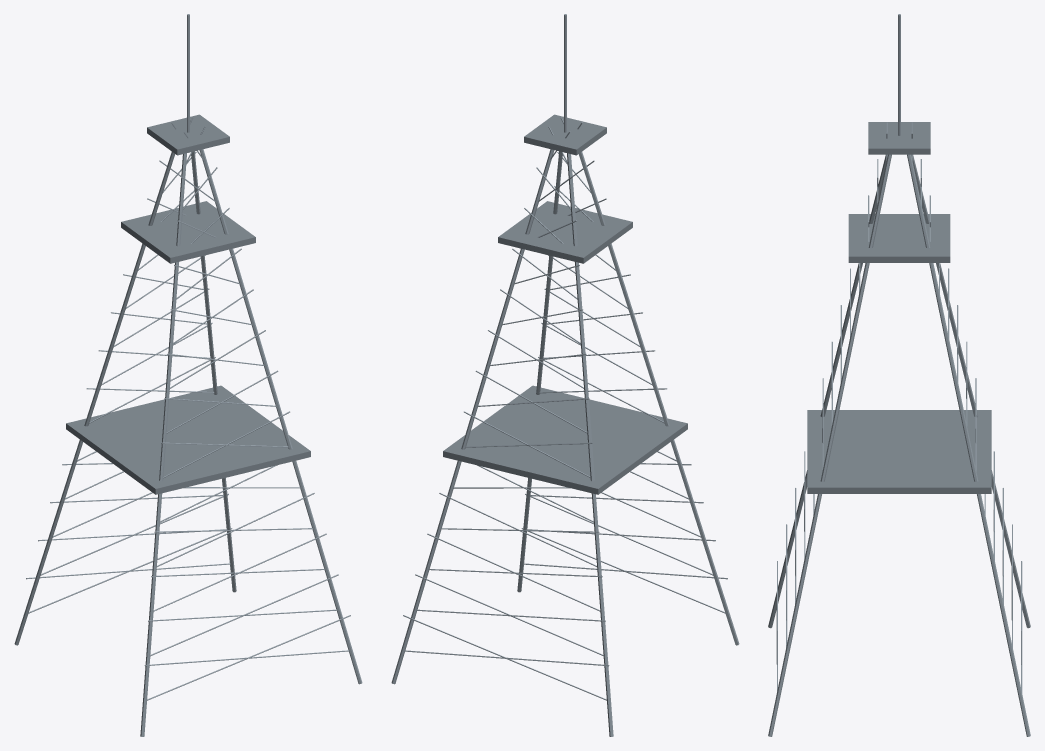
3 renders of one model, left to right at view 1: azimuth 30°, elevation 25°; view 2: azimuth 150°, elevation 25°; view 3: azimuth 270°, elevation 25°, orthographic. The views are drawn at different scales.
Visible parts, largest first — view 1: worldgen; view 2: worldgen; view 3: worldgen.
Part boxes in pixels (left/top/right/bottom): worldgen: left=14, top=14, right=362, bottom=736; worldgen: left=391, top=14, right=739, bottom=736; worldgen: left=768, top=14, right=1030, bottom=736.
Bounding box in the file's own units: 118 × 330 × 118.
